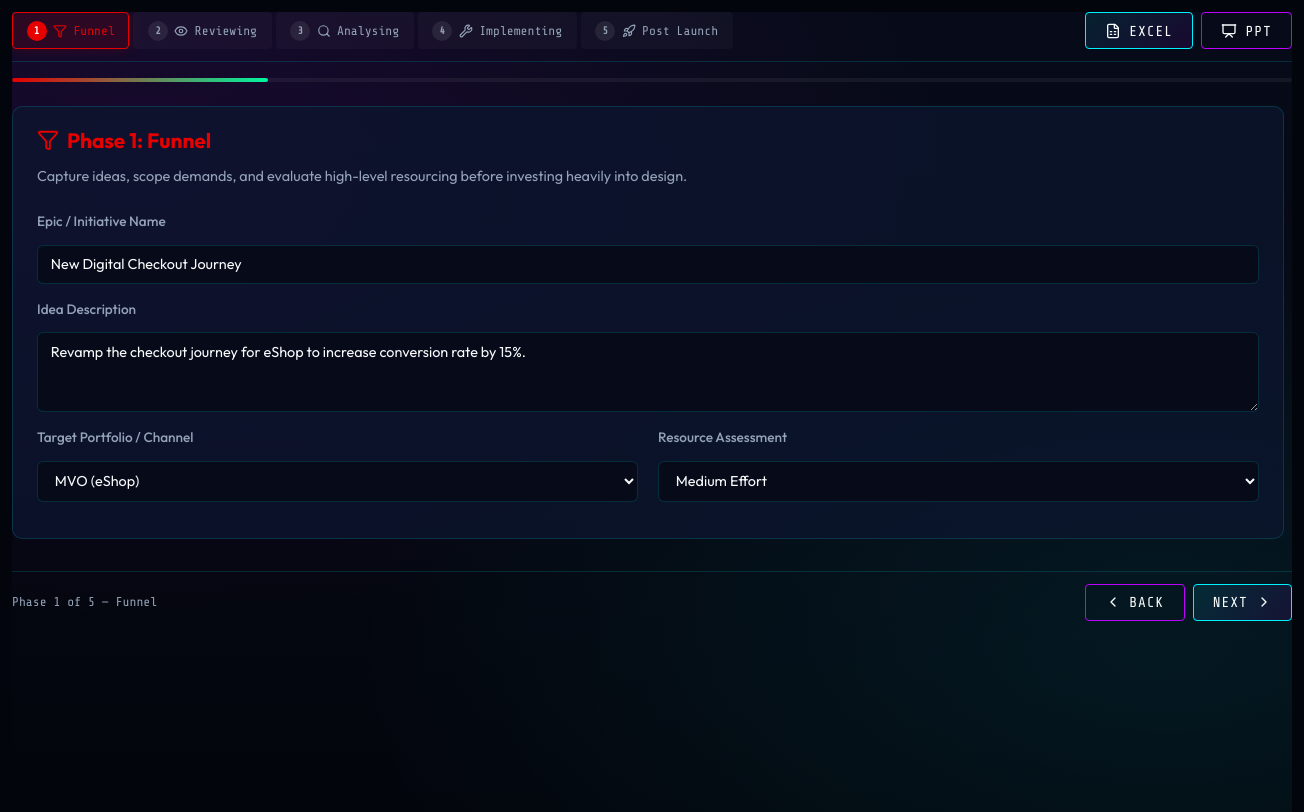
Test: Core Views Suite › renders WalkthroughWizard and steps through all phases
Expected: the text "Phase 1: Funnel" is shown, [37, 127, 211, 153]
Click the button "Next": (1242, 602) [1192, 584, 1292, 621]
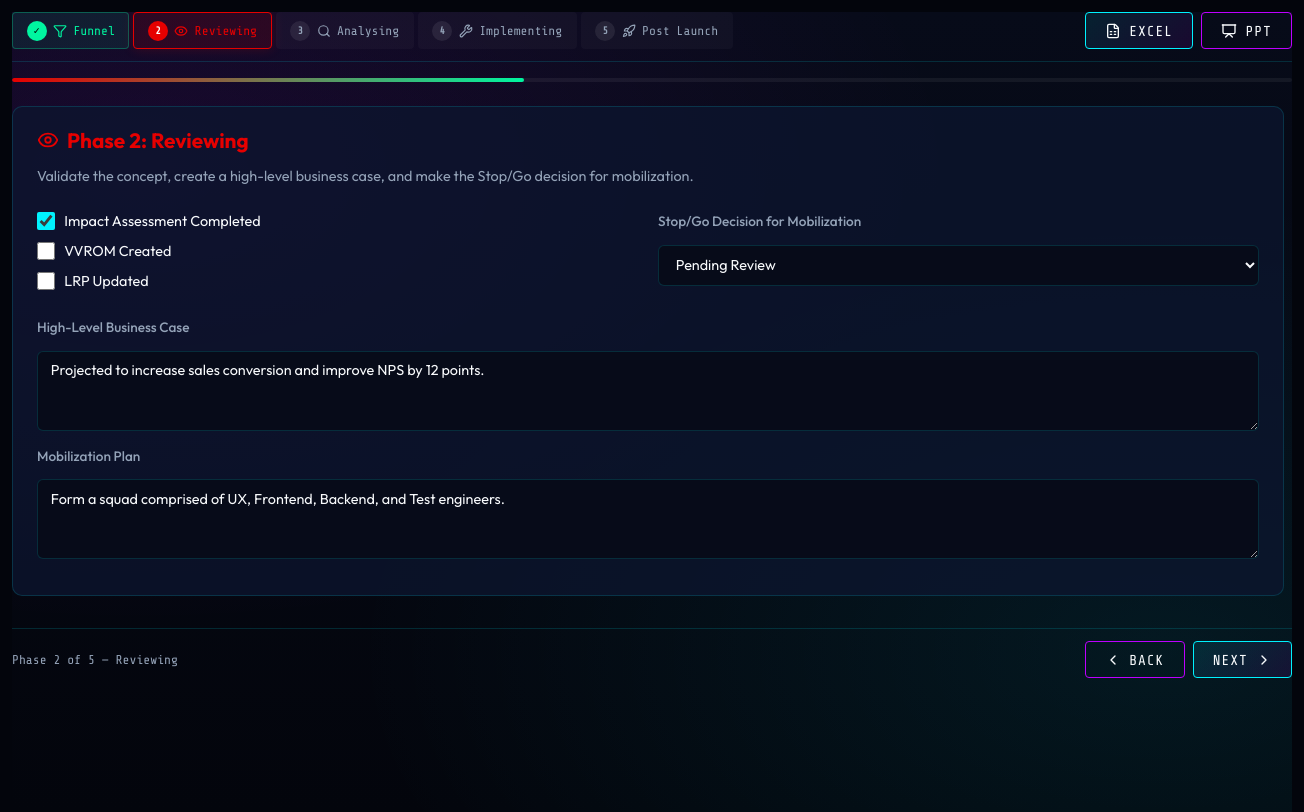
Expected: the text "Phase 2: Reviewing" is shown, [37, 127, 249, 153]
Click the button "Next": (1242, 660) [1192, 641, 1292, 678]
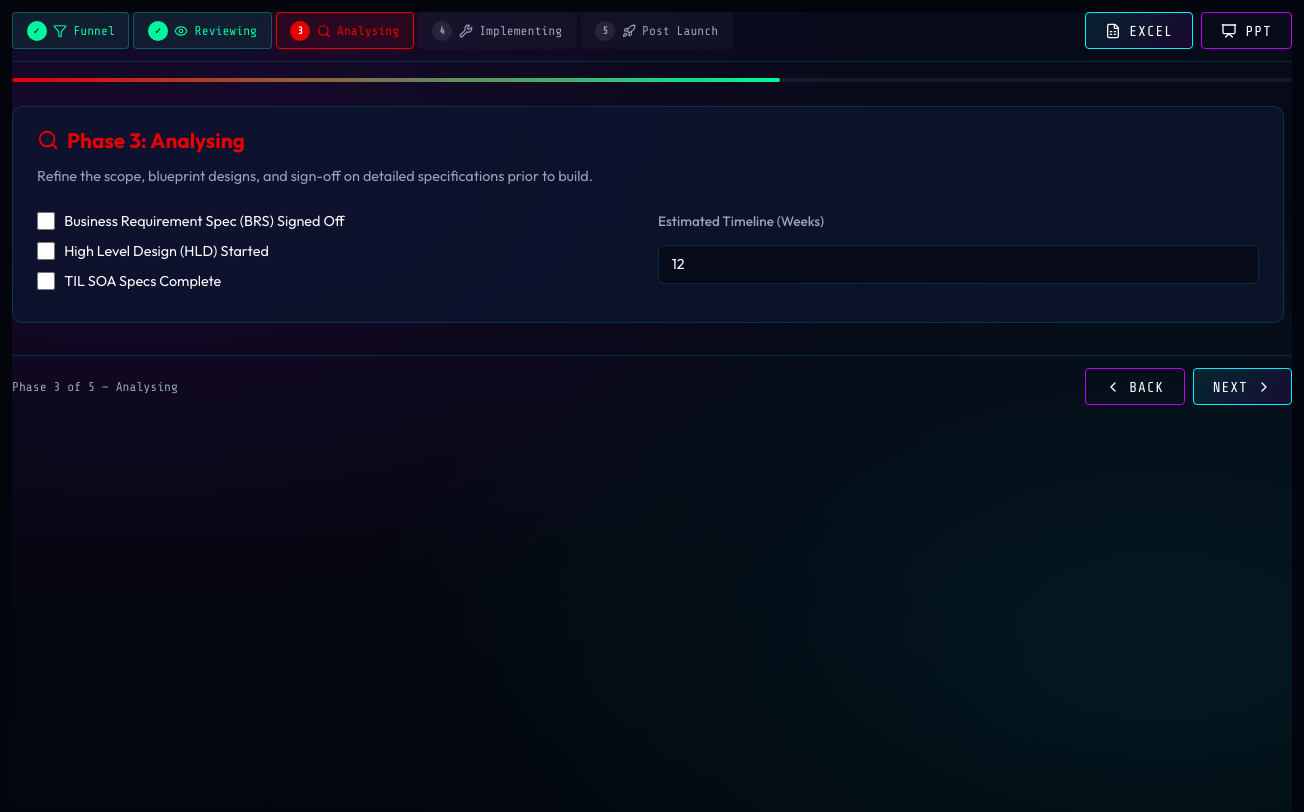
Expected: the text "Phase 3: Analysing" is shown, [37, 127, 245, 153]
Click the button "Next": (1242, 387) [1192, 368, 1292, 405]
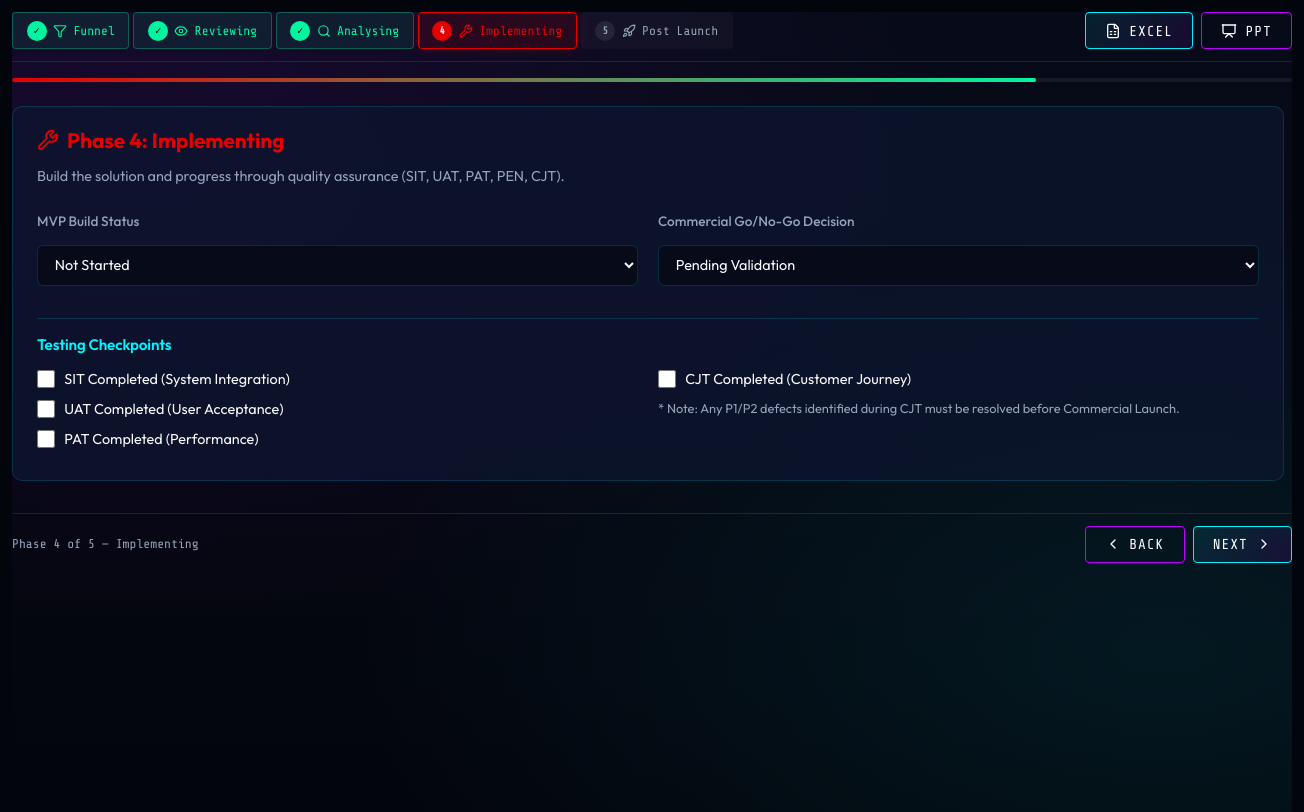
Expected: the text "Phase 4: Implementing" is shown, [37, 127, 284, 153]
Click the button "Next": (1242, 544) [1192, 526, 1292, 563]
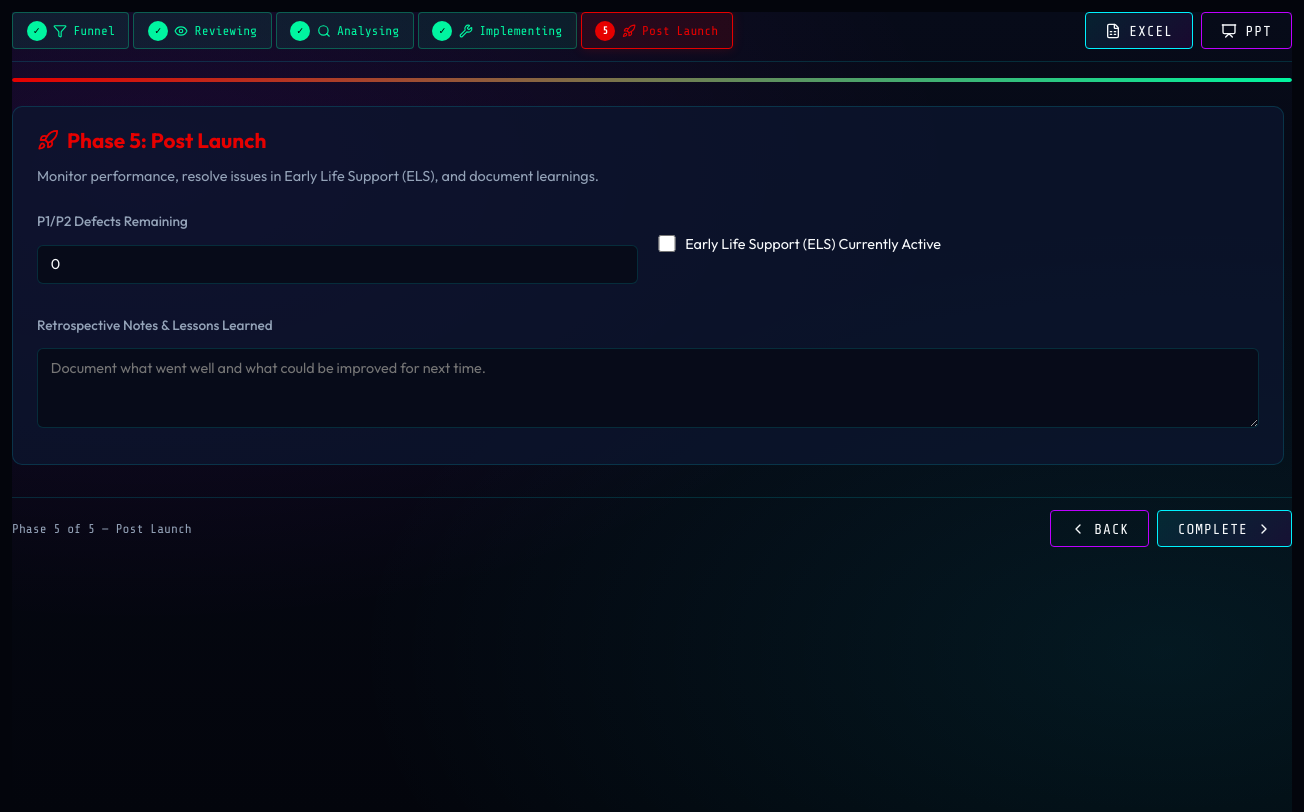
Expected: the text "Phase 5: Post Launch" is shown, [37, 127, 266, 153]
Click the button "Back": (1100, 529) [1050, 510, 1150, 547]
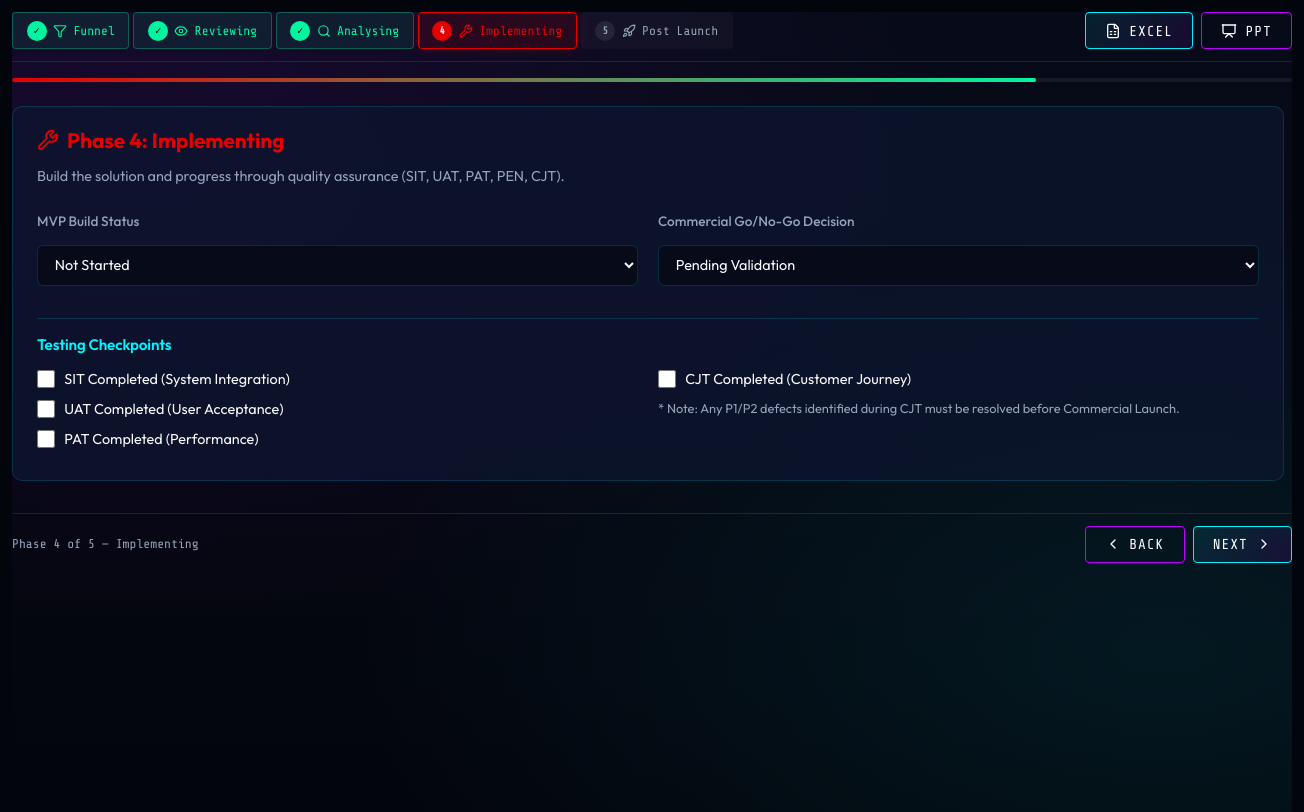
Expected: the text "Phase 4: Implementing" is shown, [37, 127, 284, 153]
